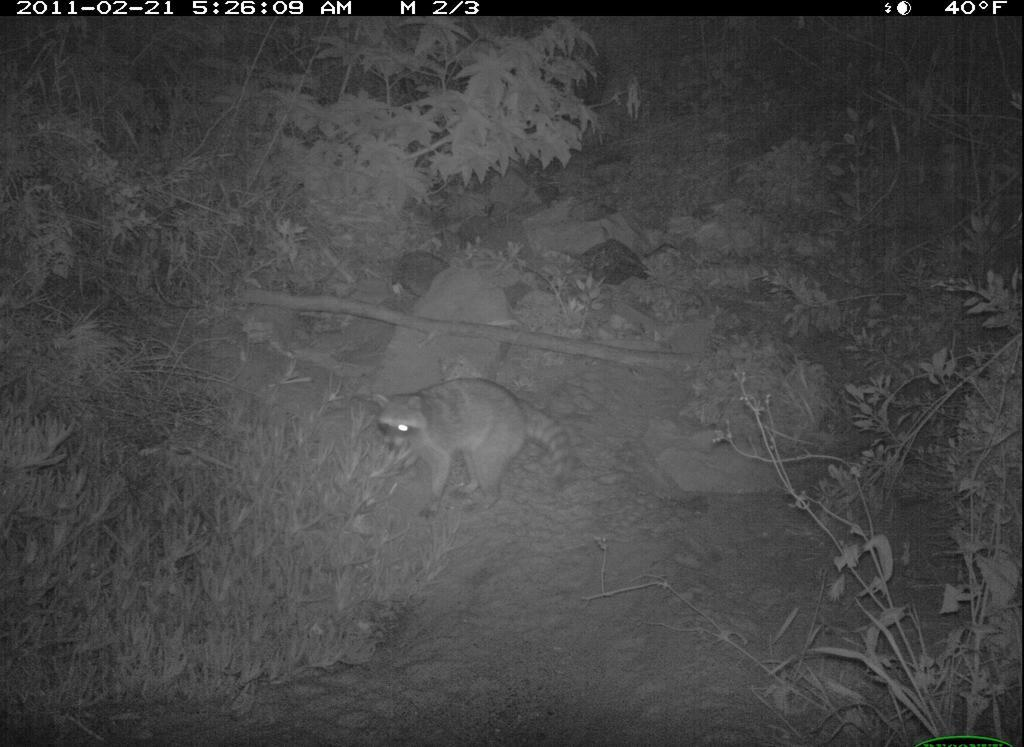raccoon: (356, 370, 601, 524)
